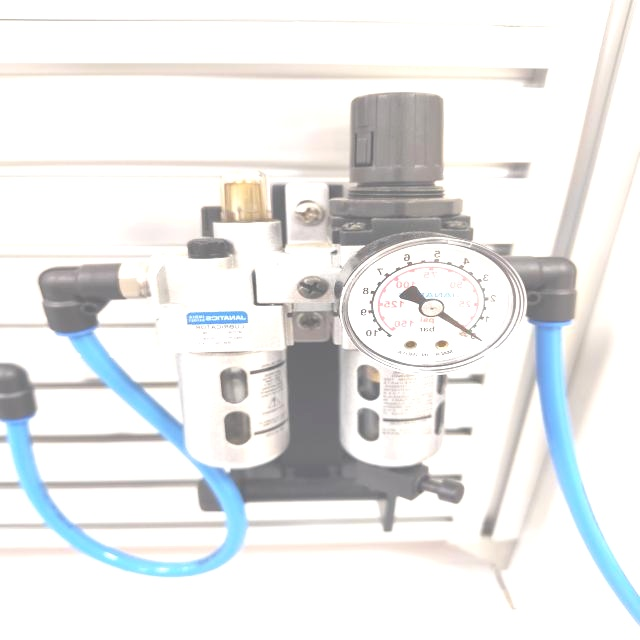FRL unit: (32, 82, 588, 518)
push button: (338, 231, 528, 375)
